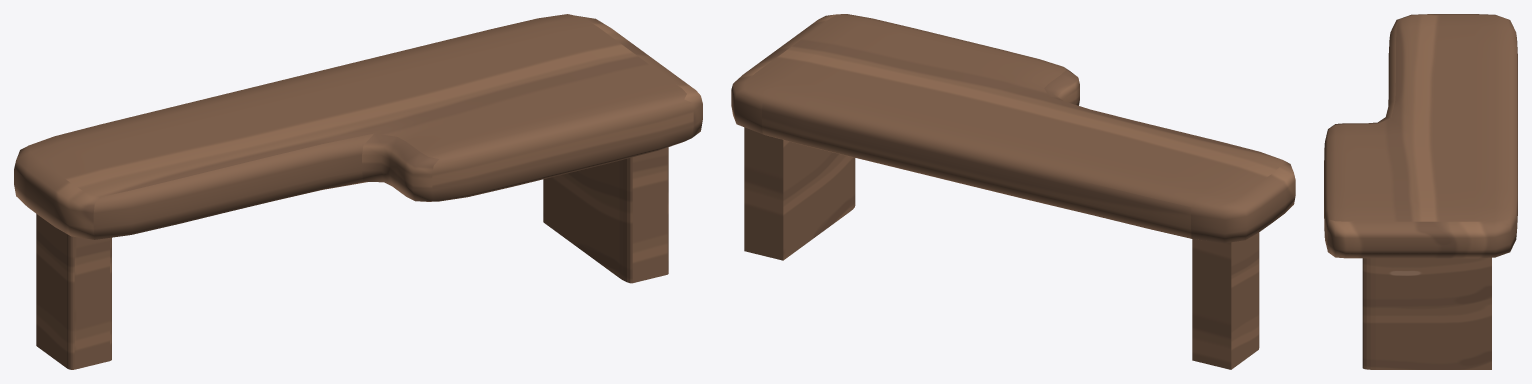
File: table.fbx
3 renders of one model, left to right at view 1: azimuth 30°, elevation 25°; view 2: azimuth 150°, elevation 25°; view 3: azimuth 270°, elevation 25°, orthographic. The views are drawn at different scales.
Parts seen in each view (by area): view 1: Cube; view 2: Cube; view 3: Cube.
Boxes of the visible parts, bbox=[...] form: Cube: bbox=[14, 14, 702, 369]; Cube: bbox=[731, 14, 1295, 369]; Cube: bbox=[1324, 14, 1517, 369].
Size of the model in its own units: 800 by 255 by 300.
Materials: 1 (1 with a texture image).
